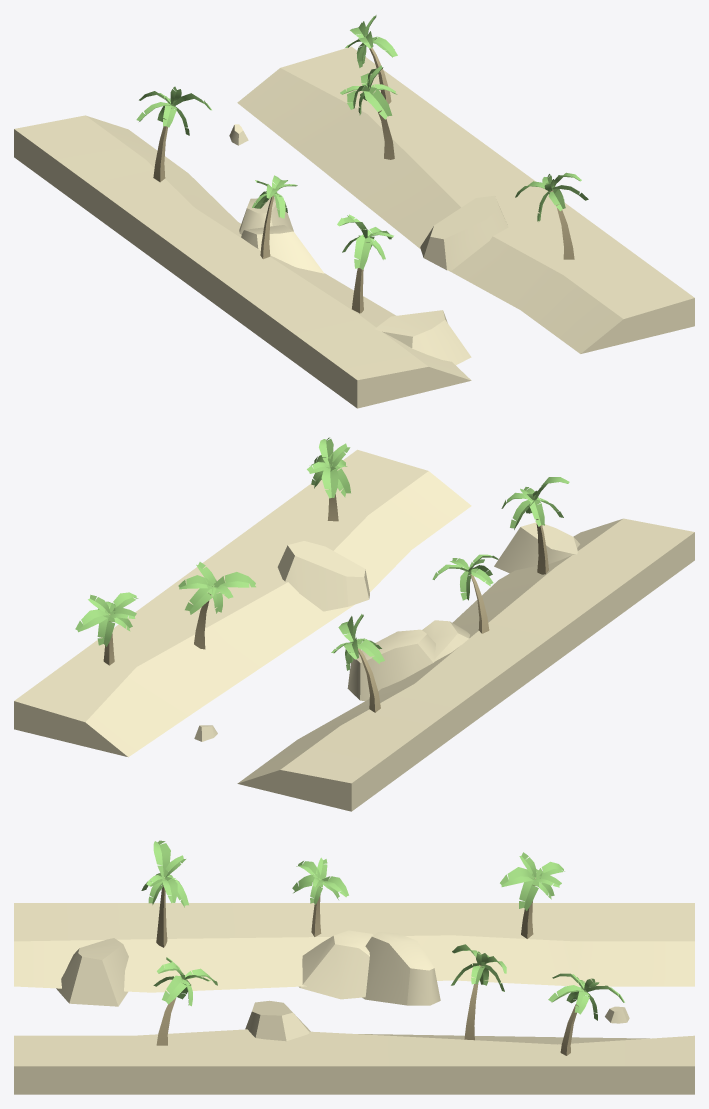
Rendered from river.gltf.
The picture shows the model from 3 angles, top to bottom: view 1: azimuth 30°, elevation 25°; view 2: azimuth 150°, elevation 25°; view 3: azimuth 270°, elevation 25°; orthographic projection.
Visible parts, largest first — view 1: Box005, Box007, Box010, Box006, conat05, conat03, conat02, conat06, conat04, conat01, Box009; view 2: Box005, Box007, Box009, Box010, conat05, conat04, conat06, conat02, conat03, conat01, Box006; view 3: Box005, Box009, Box006, Box010, conat03, conat02, Box007, conat06, conat01, conat04, conat05.
Boxes of the visible parts, left/top/right/bottom form: Box005: left=14, top=46, right=694, bottom=408; Box007: left=420, top=195, right=508, bottom=270; Box010: left=374, top=310, right=471, bottom=364; Box006: left=241, top=225, right=324, bottom=273; conat05: left=340, top=65, right=397, bottom=159; conat03: left=136, top=86, right=211, bottom=182; conat02: left=337, top=214, right=393, bottom=313; conat06: left=515, top=172, right=588, bottom=259; conat04: left=345, top=15, right=397, bottom=104; conat01: left=252, top=175, right=297, bottom=259; Box009: left=239, top=197, right=293, bottom=234; Box005: left=14, top=449, right=694, bottom=811; Box007: left=277, top=541, right=369, bottom=611; Box009: left=347, top=629, right=435, bottom=700; Box010: left=494, top=522, right=579, bottom=573; conat05: left=178, top=562, right=255, bottom=649; conat04: left=75, top=592, right=138, bottom=665; conat06: left=307, top=437, right=350, bottom=521; conat02: left=501, top=477, right=569, bottom=574; conat03: left=331, top=614, right=384, bottom=712; conat01: left=432, top=554, right=498, bottom=633; Box006: left=422, top=620, right=469, bottom=660; Box005: left=14, top=903, right=694, bottom=1094; Box009: left=362, top=932, right=440, bottom=1005; Box006: left=299, top=930, right=373, bottom=999; Box010: left=56, top=938, right=128, bottom=1006; conat03: left=500, top=852, right=564, bottom=938; conat02: left=141, top=840, right=188, bottom=947; Box007: left=245, top=1000, right=310, bottom=1041; conat06: left=153, top=957, right=217, bottom=1045; conat01: left=292, top=857, right=348, bottom=936; conat04: left=548, top=973, right=624, bottom=1055; conat05: left=451, top=944, right=506, bottom=1040.
Bounding box in the file's own units: 2.84 × 1.09 × 5.
